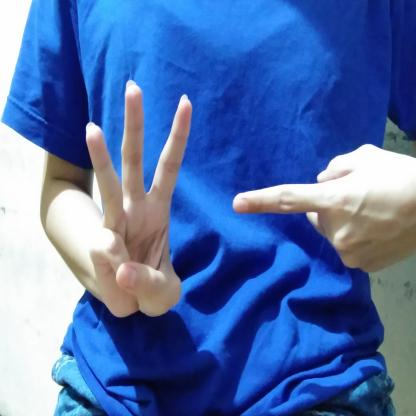why: (73, 73, 416, 325)
